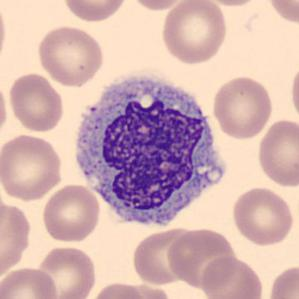Monocyte: (66, 64, 228, 234)
RBC: (166, 226, 240, 290), (159, 0, 229, 66), (0, 132, 65, 202), (35, 24, 105, 88), (210, 73, 275, 141), (129, 226, 198, 287), (229, 185, 296, 247), (40, 183, 102, 244), (6, 71, 66, 133), (32, 244, 99, 298), (255, 117, 298, 189), (200, 254, 266, 299), (0, 195, 33, 283), (0, 264, 59, 299), (60, 0, 130, 23), (265, 262, 298, 299), (87, 280, 147, 299), (264, 0, 298, 26), (126, 0, 190, 12), (288, 60, 299, 125), (0, 76, 10, 142), (0, 0, 9, 69), (197, 0, 265, 7)
